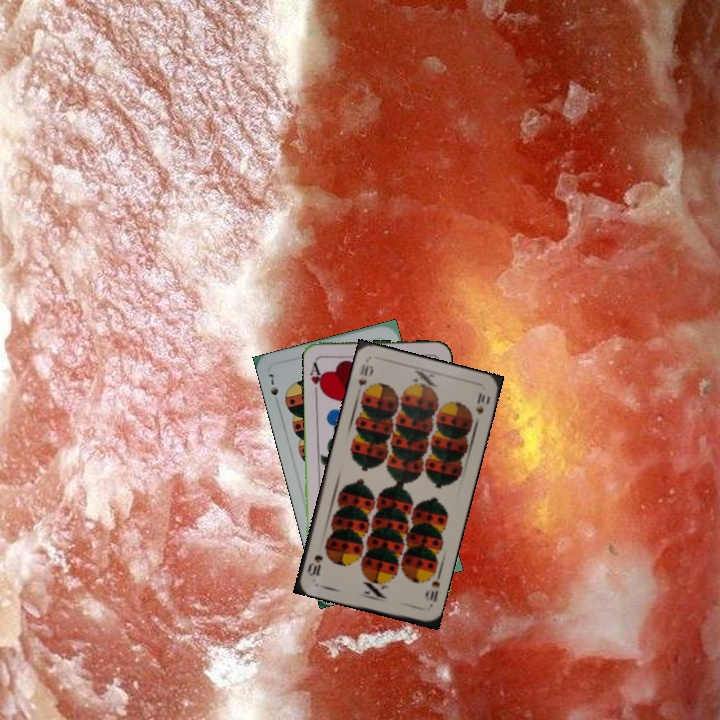HA: (306, 356, 326, 396)
S10: (354, 360, 376, 389), (426, 576, 443, 610)
S7: (264, 370, 281, 399)
